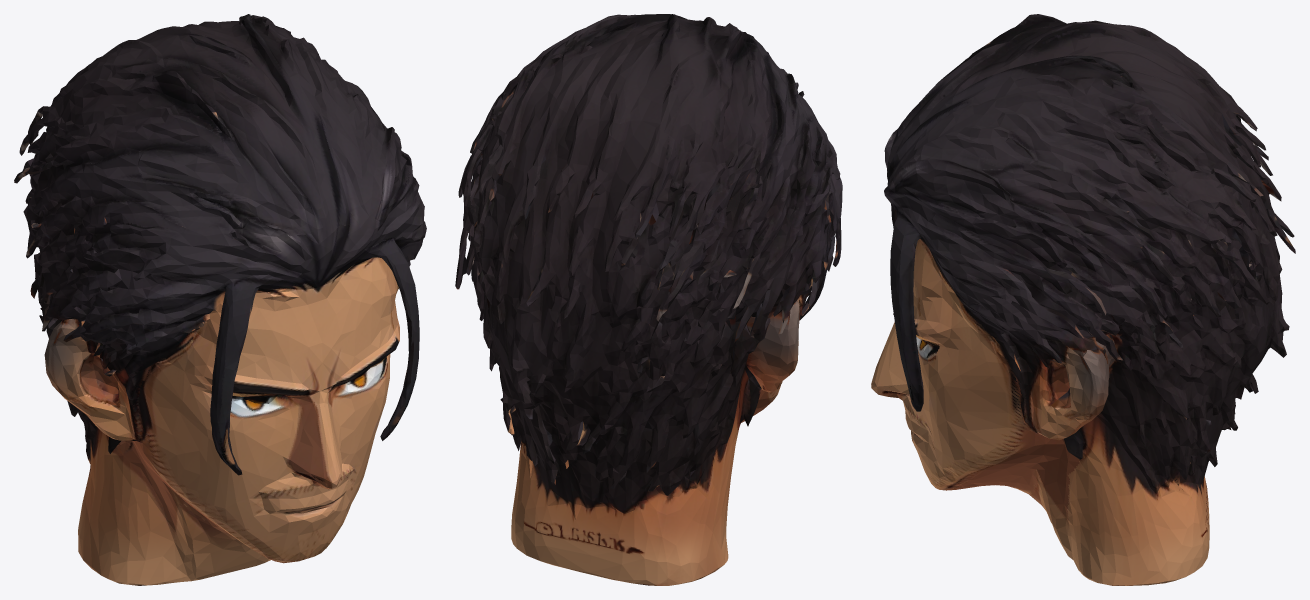
The model's file is side_hidden1_repaired_atlas.glb.
3 renders of one model, left to right at view 1: azimuth 30°, elevation 25°; view 2: azimuth 150°, elevation 25°; view 3: azimuth 270°, elevation 25°, orthographic. The views are drawn at different scales.
Visible parts, largest first — view 1: temp_mesh.ply; view 2: temp_mesh.ply; view 3: temp_mesh.ply.
Boxes of the visible parts, <box> form: temp_mesh.ply: <box>14,14,426,585</box>; temp_mesh.ply: <box>455,14,842,585</box>; temp_mesh.ply: <box>871,14,1295,585</box>.
Bounding box in the file's own units: 0.8341 × 1.25 × 0.9503.
Materials: 1 (1 with a texture image).
